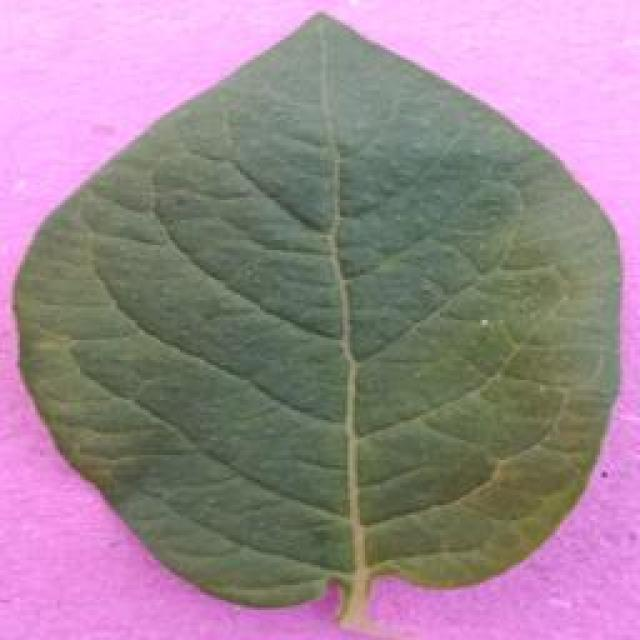Potato_Healthy: (12, 8, 614, 626)
